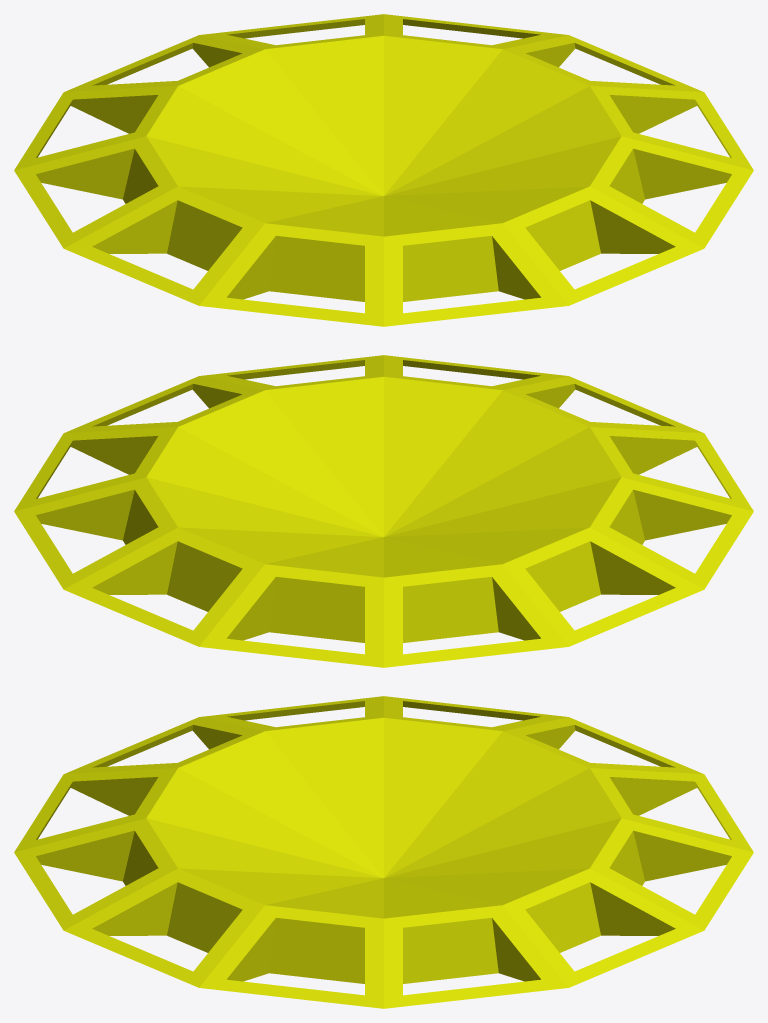
Rendered from 5Disc.fbx.
3 views of the same model, one above another, from view 1: azimuth 30°, elevation 25°; view 2: azimuth 150°, elevation 25°; view 3: azimuth 270°, elevation 25° (orthographic).
Visible parts, largest first — view 1: 5Disc; view 2: 5Disc; view 3: 5Disc.
Part boxes in pixels (<box>): 5Disc: <box>14,14,753,326</box>; 5Disc: <box>14,355,753,667</box>; 5Disc: <box>14,696,753,1008</box>.
Bounding box in the file's own units: 311 × 35.91 × 311.
